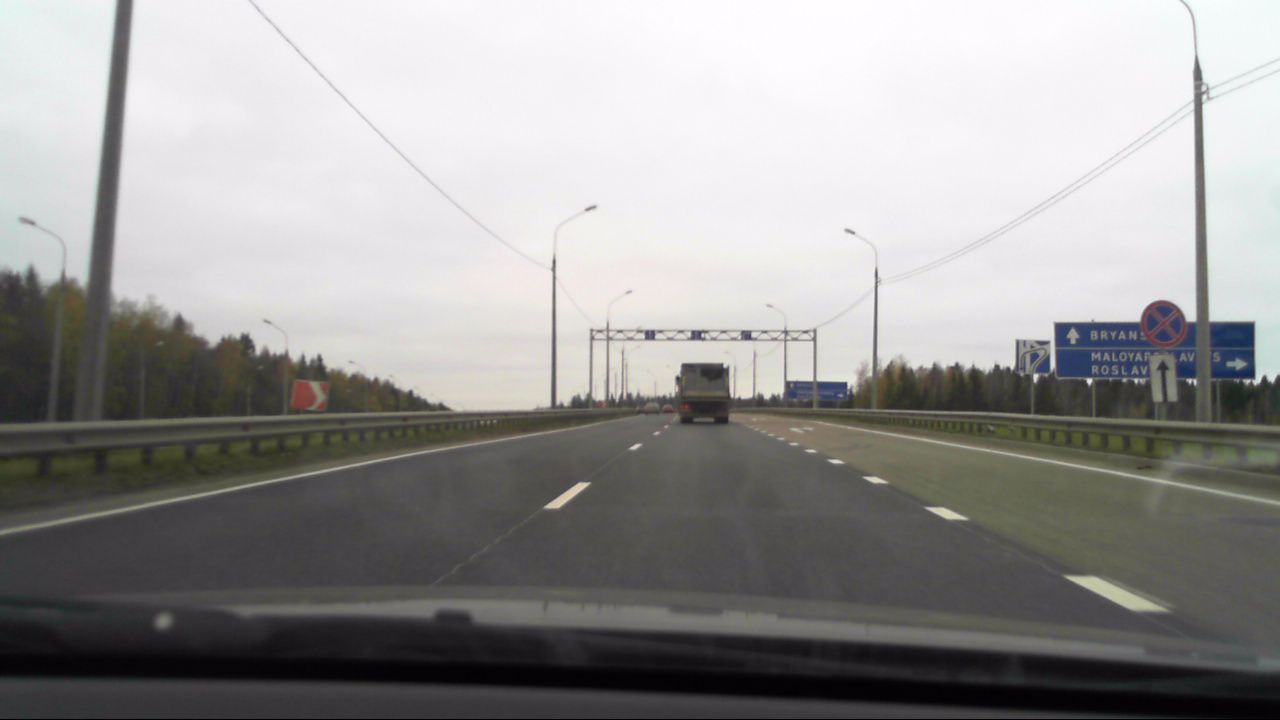No Parking: (1140, 303, 1187, 348)
